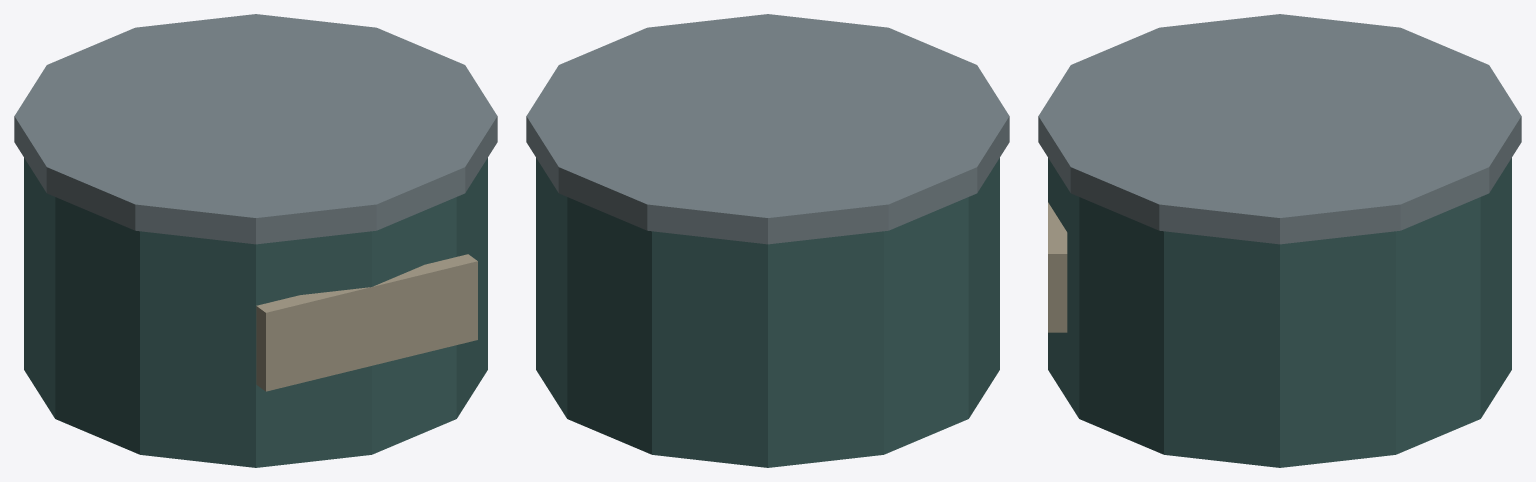
The model's file is L-49_grease_tin.glb.
The picture shows the model from 3 angles, left to right: view 1: azimuth 30°, elevation 25°; view 2: azimuth 150°, elevation 25°; view 3: azimuth 270°, elevation 25°; orthographic projection.
Visible parts, largest first — view 1: L-49_grease_tin; view 2: L-49_grease_tin; view 3: L-49_grease_tin.
Boxes of the visible parts, x1,y1,x2,y2 form: L-49_grease_tin: [14, 14, 497, 467]; L-49_grease_tin: [526, 14, 1009, 467]; L-49_grease_tin: [1038, 14, 1521, 467].
Bounding box in the file's own units: 0.15 × 0.087 × 0.15.
